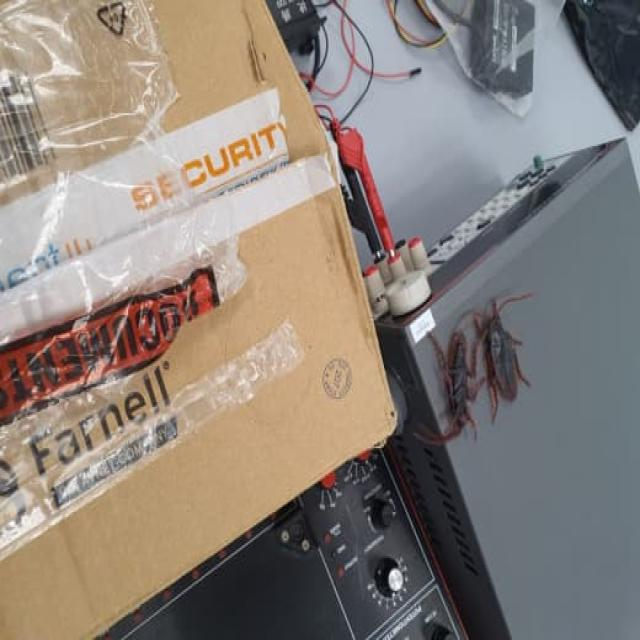Cockroach: (466, 289, 530, 417), (424, 320, 484, 445)
